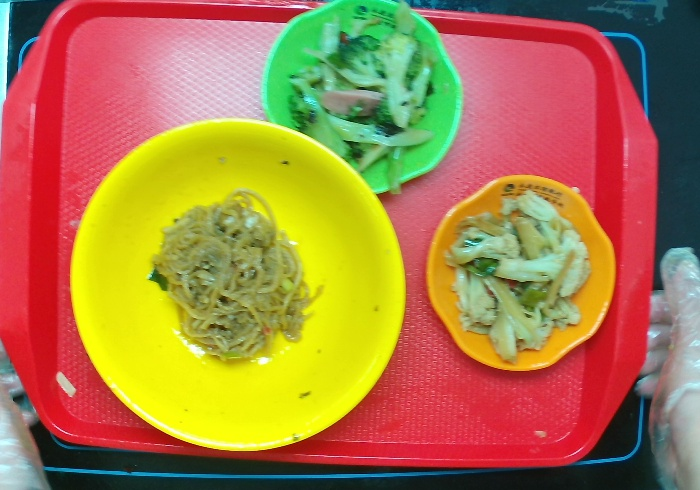YKMZ-Huang_Se_Tang_Wan: (66, 114, 410, 455)
YKMZ-Ju_Se_Ao_Bian_Wan: (422, 169, 620, 377)
YKMZ-Lv_Se_Ao_Bian_Wan: (256, 1, 470, 198)
